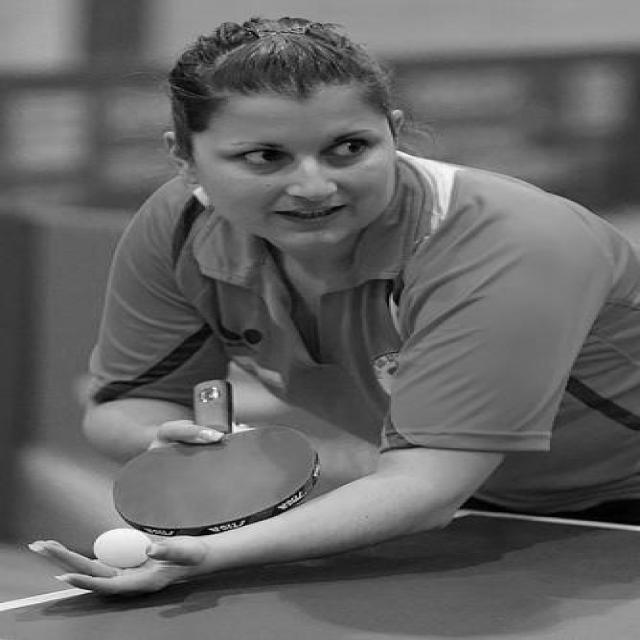ping-pong-ball: (94, 527, 154, 569)
